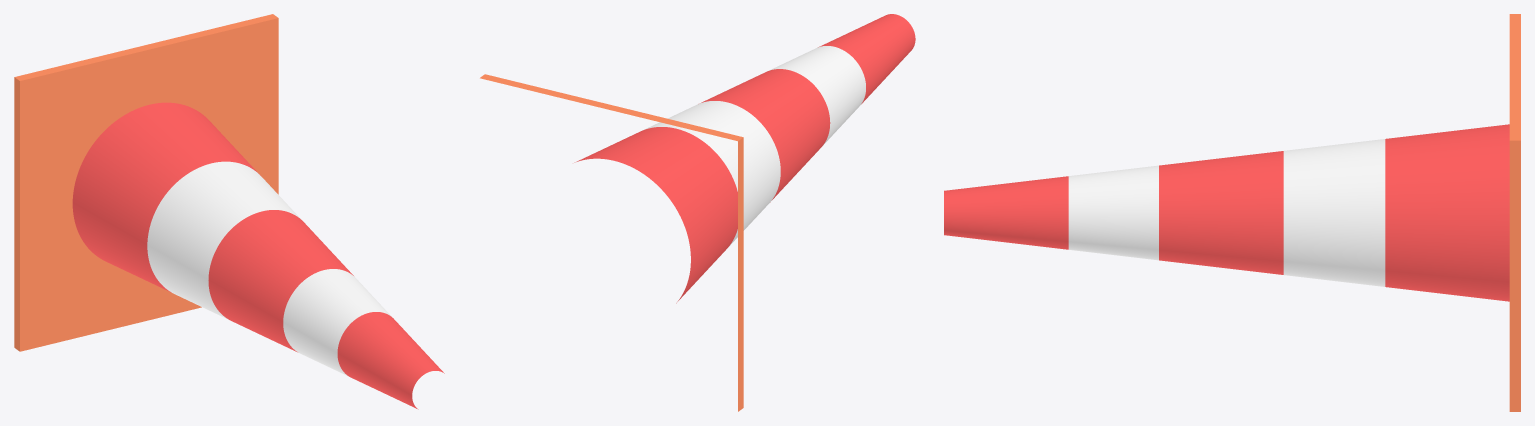
File: traffic_cone_unlit_colored_real_scale.gltf
3 renders of one model, left to right at view 1: azimuth 30°, elevation 25°; view 2: azimuth 150°, elevation 25°; view 3: azimuth 270°, elevation 25°, orthographic.
Visible parts, largest first — view 1: ConeNode, BaseNode; view 2: ConeNode, BaseNode; view 3: ConeNode, BaseNode.
Boxes of the visible parts, box(x1,y1,x2,y2) form: ConeNode: box(72, 102, 444, 409); BaseNode: box(14, 14, 278, 351); ConeNode: box(574, 14, 915, 303); BaseNode: box(480, 74, 743, 411); ConeNode: box(944, 124, 1509, 301); BaseNode: box(1509, 14, 1520, 411).
Size of the model in its own units: 0.27 by 0.27 by 0.52.
